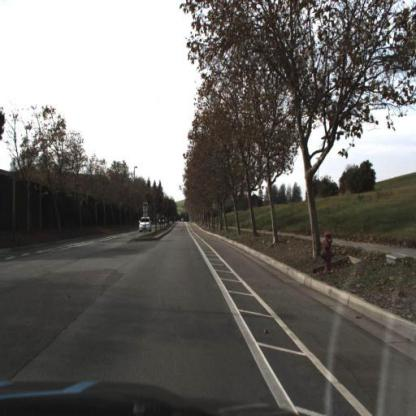car: (140, 217, 151, 233)
